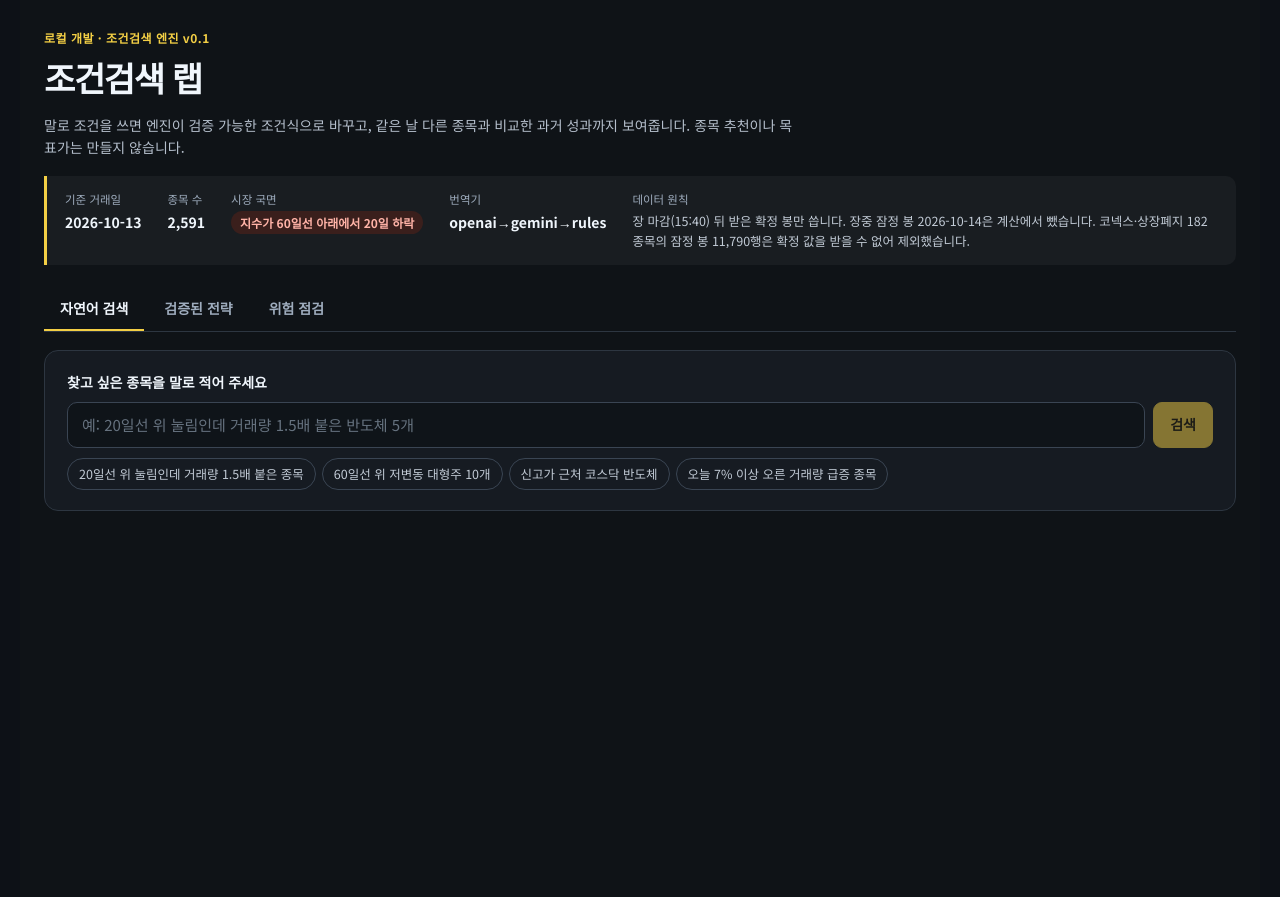
Test: condition lab › runs a backtest and shows both windows and the verdict
Check: the text "지수가 60일선 아래에서 20일 하락" is shown, box 231,211 -> 423,234
Step 1. Click the button "20일선 위 눌림인데 거래량 1.5배 붙은 종목" → (191, 474), box 67,458 -> 316,490
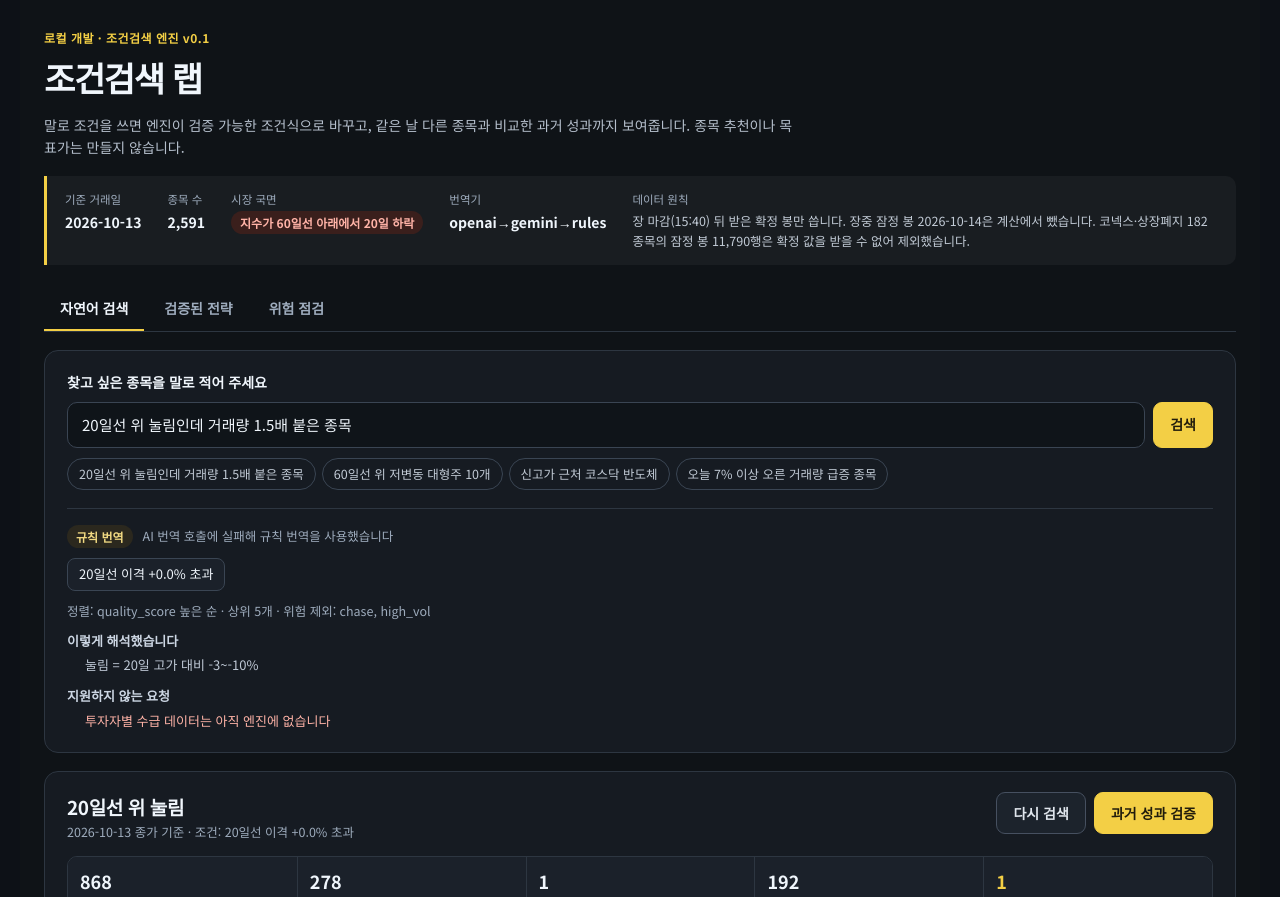
Step 2. Click the button "과거 성과 검증" → (1153, 813), box 1094,792 -> 1213,834
(page scrolled)
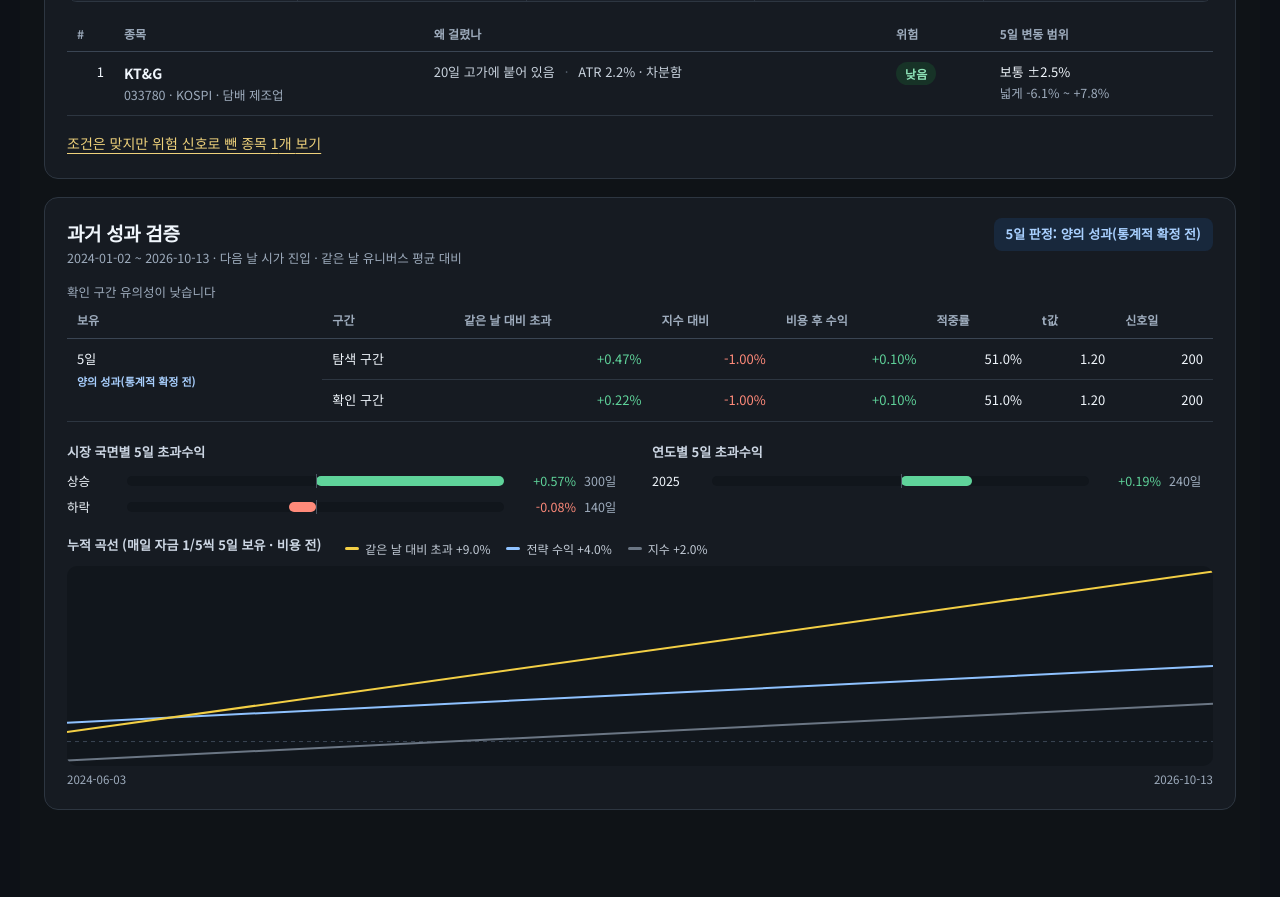
Check: the element labelled "과거 성과 검증" shows "5일 판정: 양의 성과(통계적 확정 전)"
Check: the element labelled "과거 성과 검증" shows "탐색 구간", box 332,349 -> 384,368
Check: the element labelled "과거 성과 검증" shows "+0.22%", box 597,390 -> 642,409
